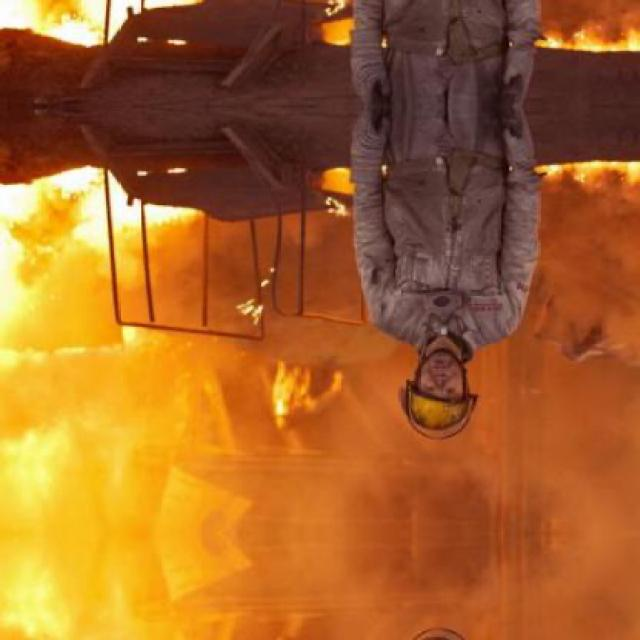con casco: (366, 314, 472, 452)
